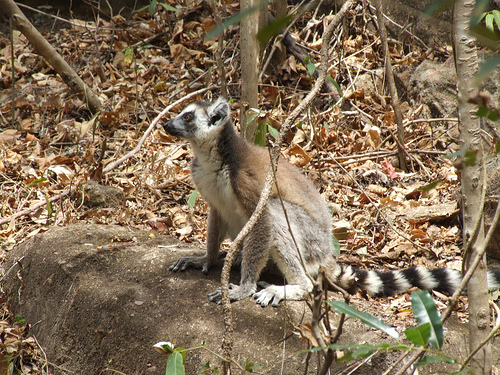cat: (157, 96, 499, 307)
